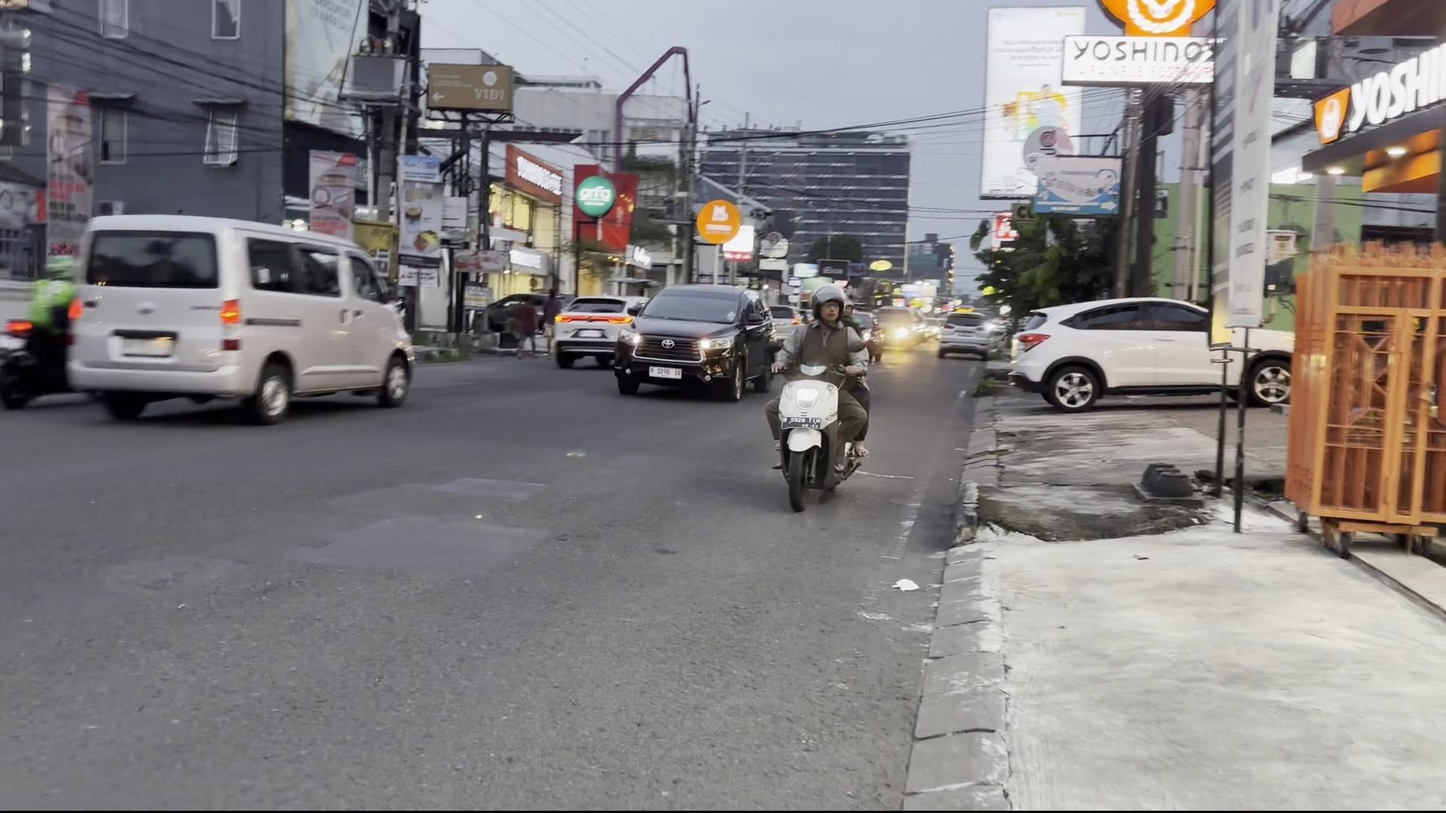helm: (809, 281, 852, 328)
riding: (765, 281, 877, 522)
